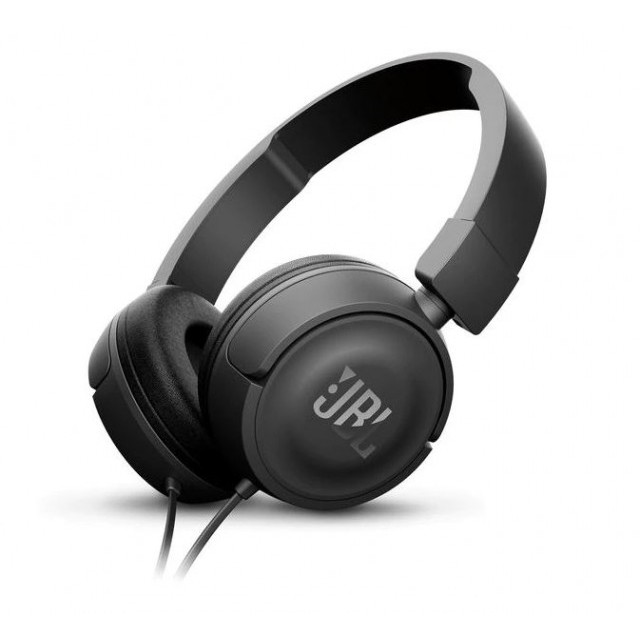Headphone: (77, 45, 553, 538)
